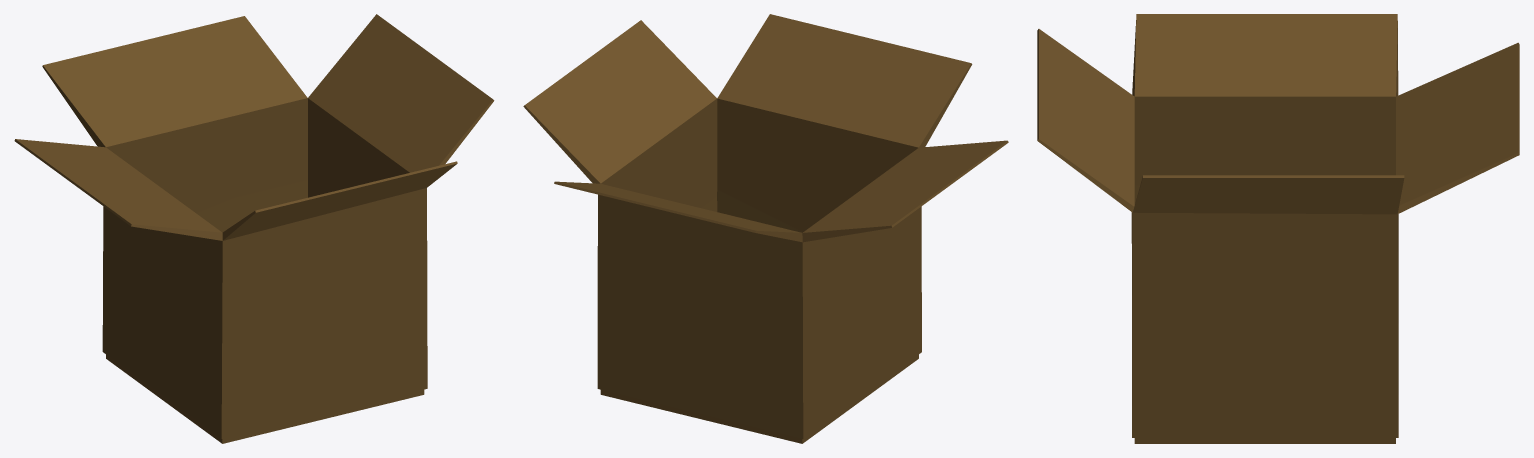
File: OpenBox.fbx
3 renders of one model, left to right at view 1: azimuth 30°, elevation 25°; view 2: azimuth 150°, elevation 25°; view 3: azimuth 270°, elevation 25°, orthographic. The views are drawn at different scales.
Visible parts, largest first — view 1: Cube; view 2: Cube; view 3: Cube.
Part boxes in pixels (box(x1,y1,x2,y2)): Cube: box(14, 14, 494, 443); Cube: box(523, 14, 1008, 443); Cube: box(1037, 14, 1519, 443).
Bounding box in the file's own units: 110 × 78.93 × 112.
